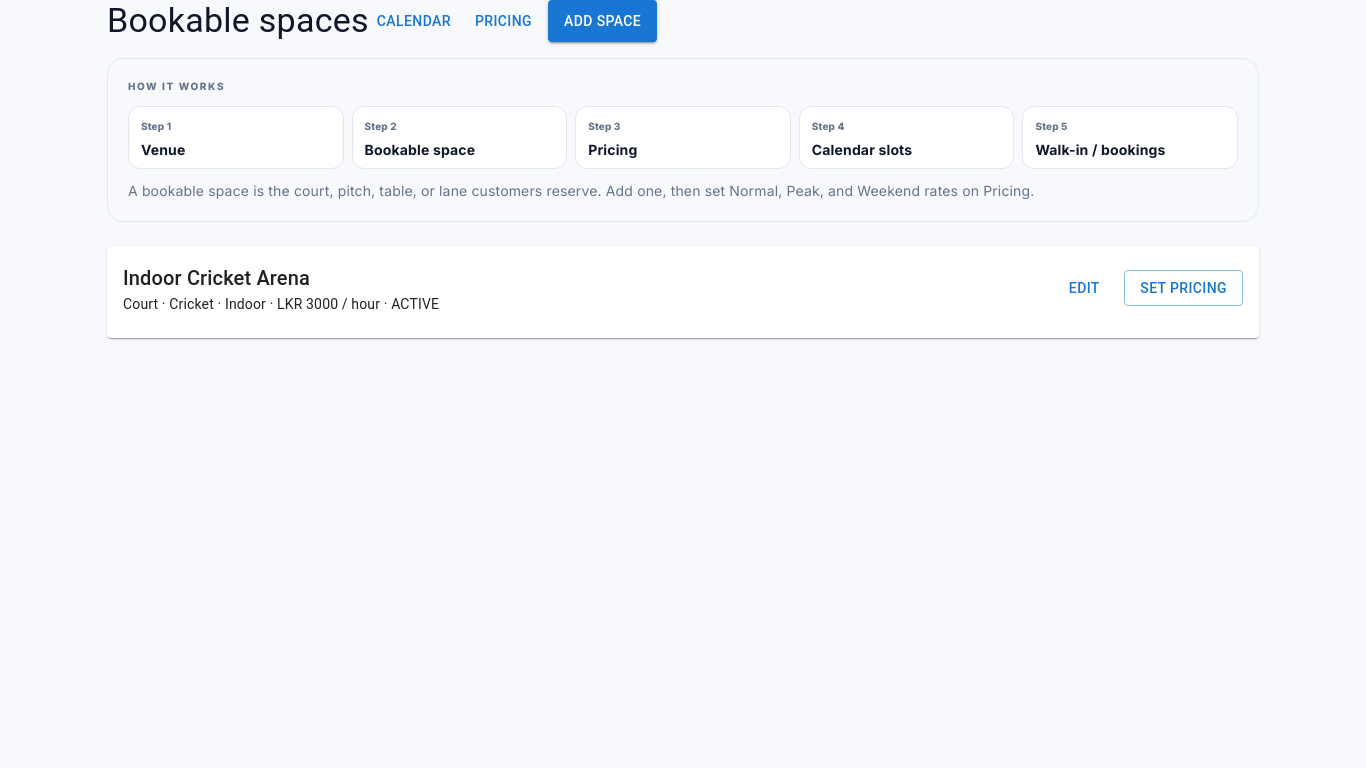
Scenario: OwnerCourtsPage facility handling › prefills the facility type when editing an existing court
Click the button "Edit". click: coordinates (1084, 288)
box: [1052,270,1116,306]
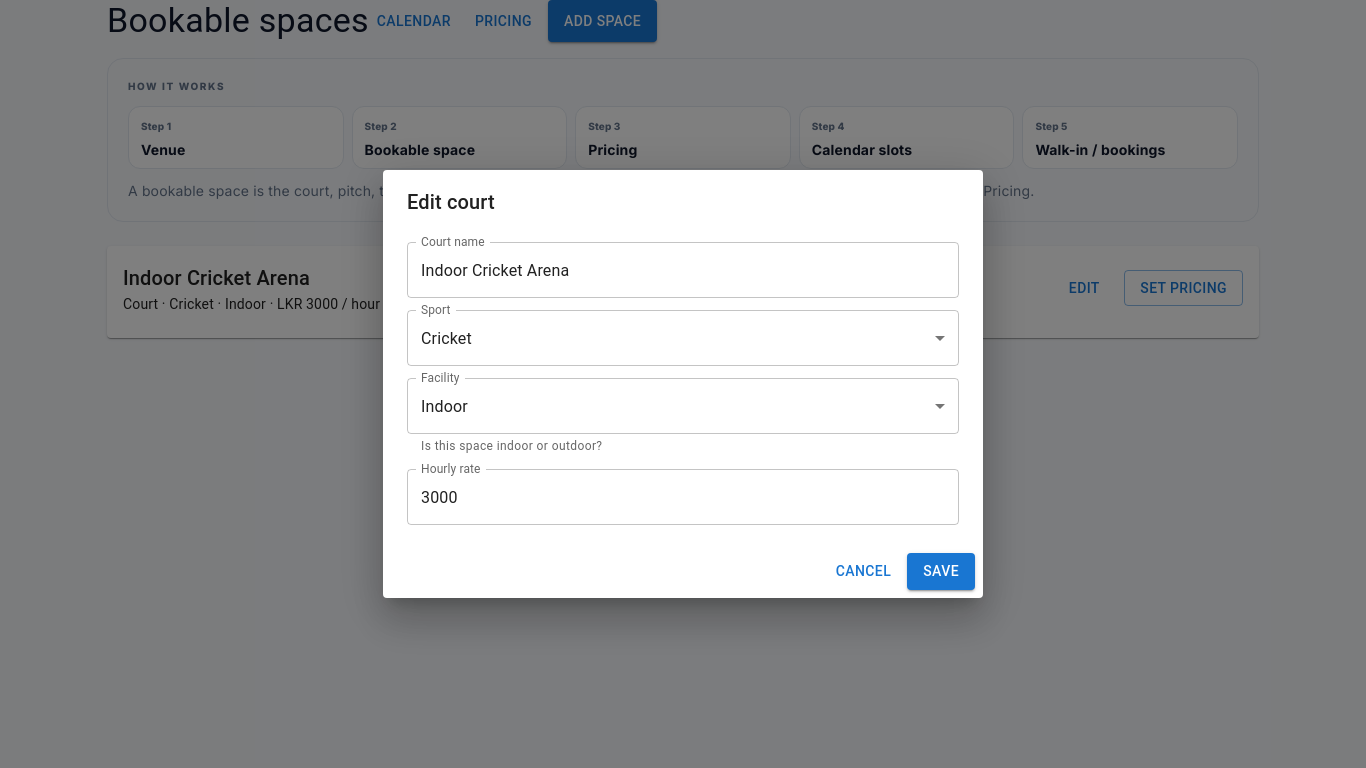
expect the dropdown named "Facility" reads "Indoor": met, box [421,397,468,416]
